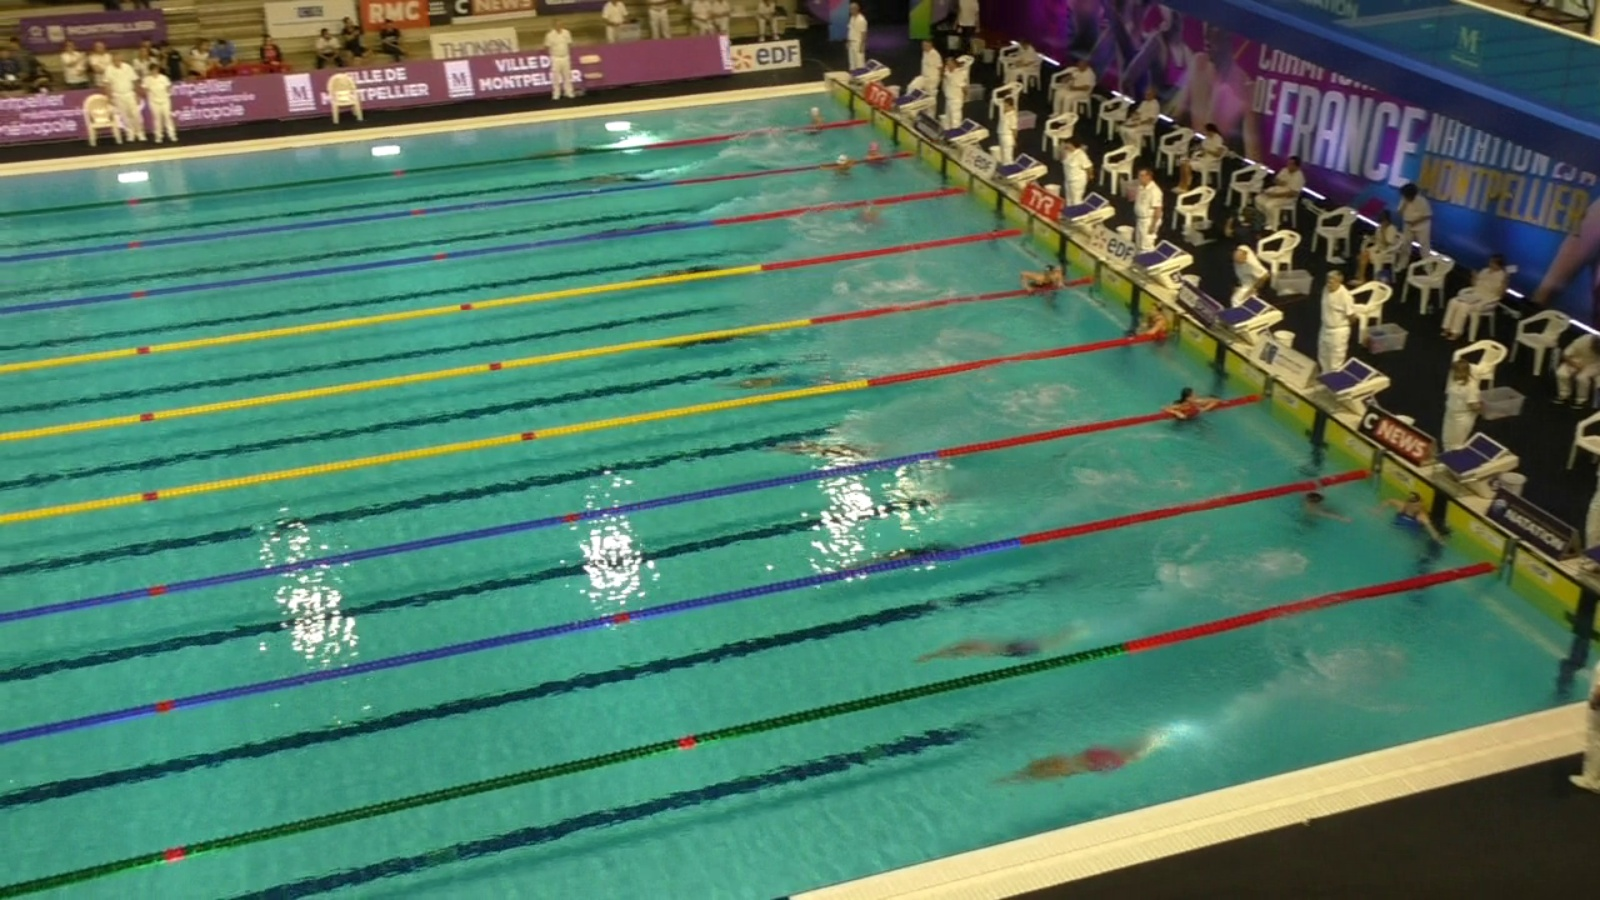swimmerwdd: (998, 727, 1190, 787), (813, 540, 969, 581), (1367, 488, 1447, 556), (918, 633, 1097, 663), (1155, 384, 1234, 440), (1009, 263, 1078, 316), (1290, 484, 1349, 543), (759, 433, 886, 460), (1130, 297, 1182, 357), (725, 375, 851, 399), (627, 264, 745, 287), (666, 331, 745, 360), (845, 204, 895, 241), (542, 145, 638, 163), (578, 173, 679, 188), (789, 104, 833, 138), (822, 153, 866, 184), (862, 140, 895, 173), (609, 220, 705, 231)
